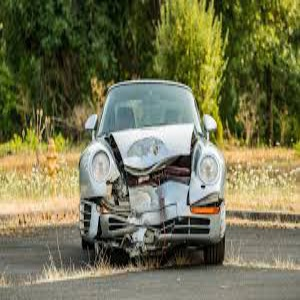bonnet: (110, 120, 193, 168)
